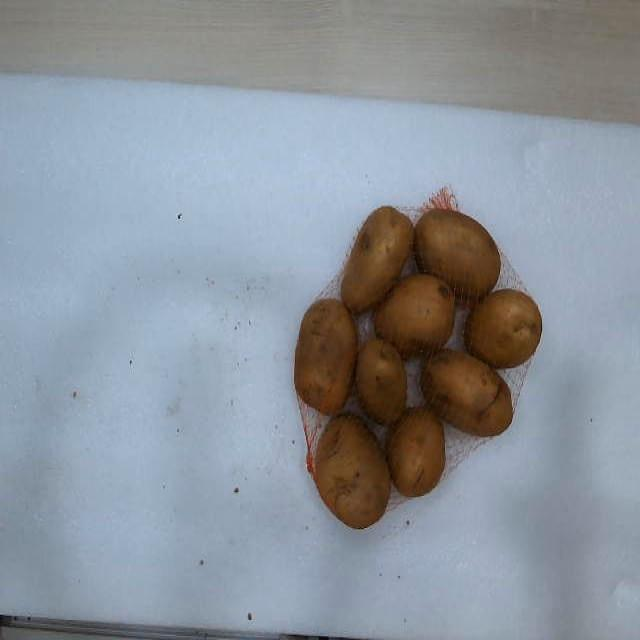potato: (315, 417, 391, 528), (421, 348, 512, 436), (421, 350, 512, 436), (415, 208, 500, 299), (341, 207, 414, 312), (294, 298, 358, 415), (376, 275, 455, 358), (464, 290, 542, 368), (388, 407, 445, 497), (421, 348, 500, 412), (356, 340, 406, 425)
